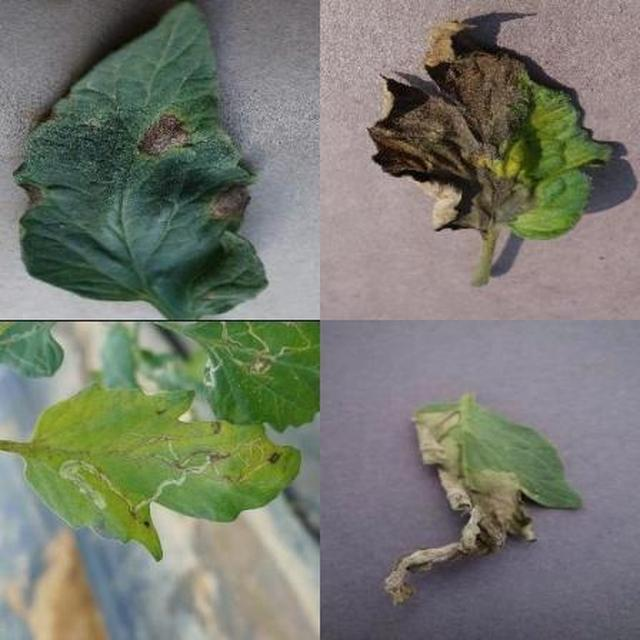Early Blight Leaf: (200, 188, 640, 640)
